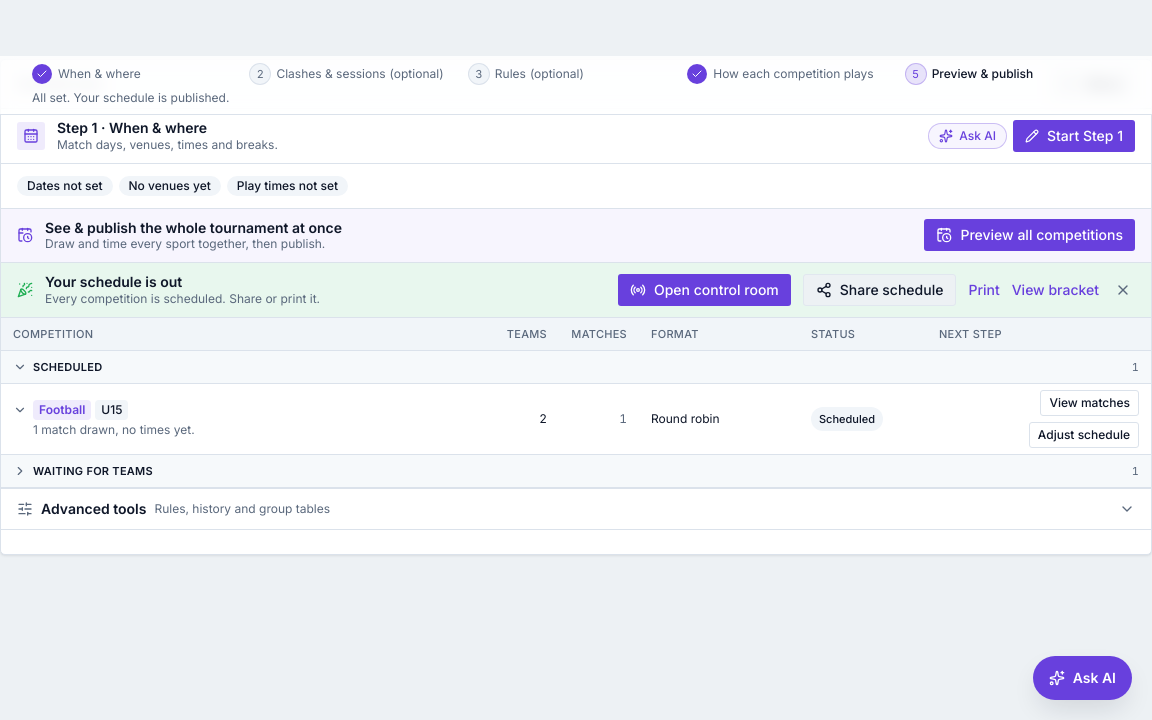
Test case: FixtureSetupHub › keeps history and tables behind the closed Advanced disclosure
What coordinates should you click on to do the following:
click the button with test id "advanced-tools-toggle"
I would click on:
 (94, 508)
Its box is [1,488,1151,528].
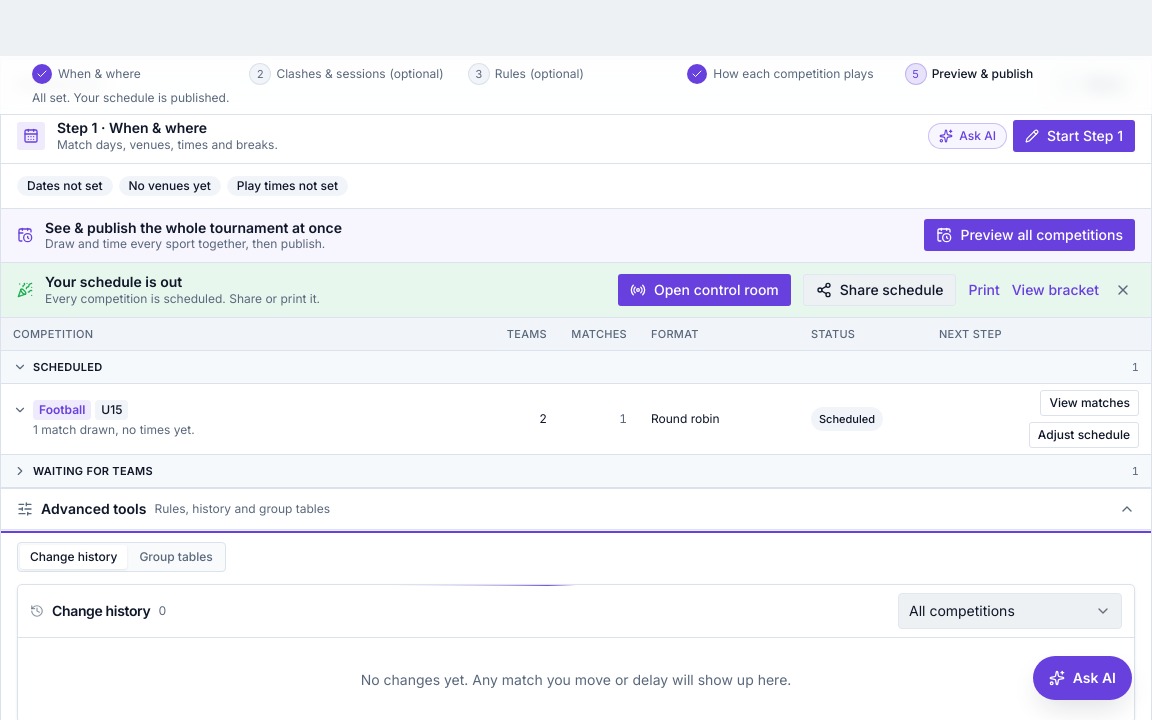
What coordinates should you click on to do the following:
click the tab with test id "hub-tab-standings"
I would click on:
 (176, 556)
Its box is [129,544,223,568].
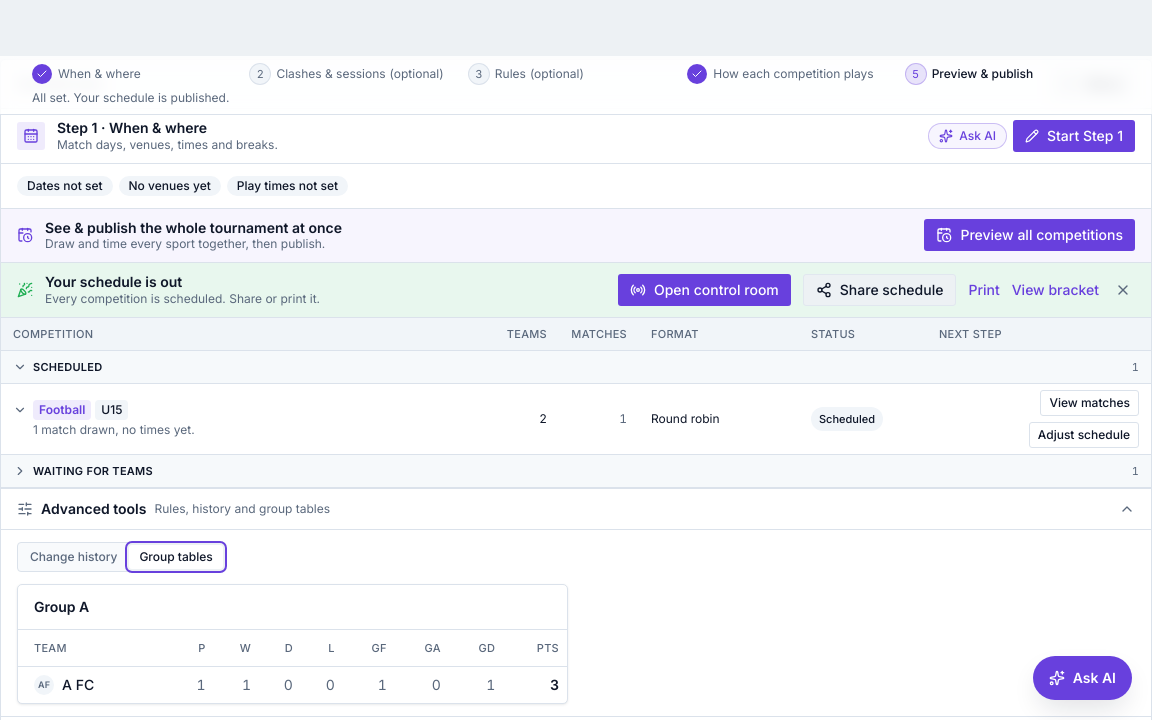
Check: the heading "Group A" is shown, box [34,598,89,614]
